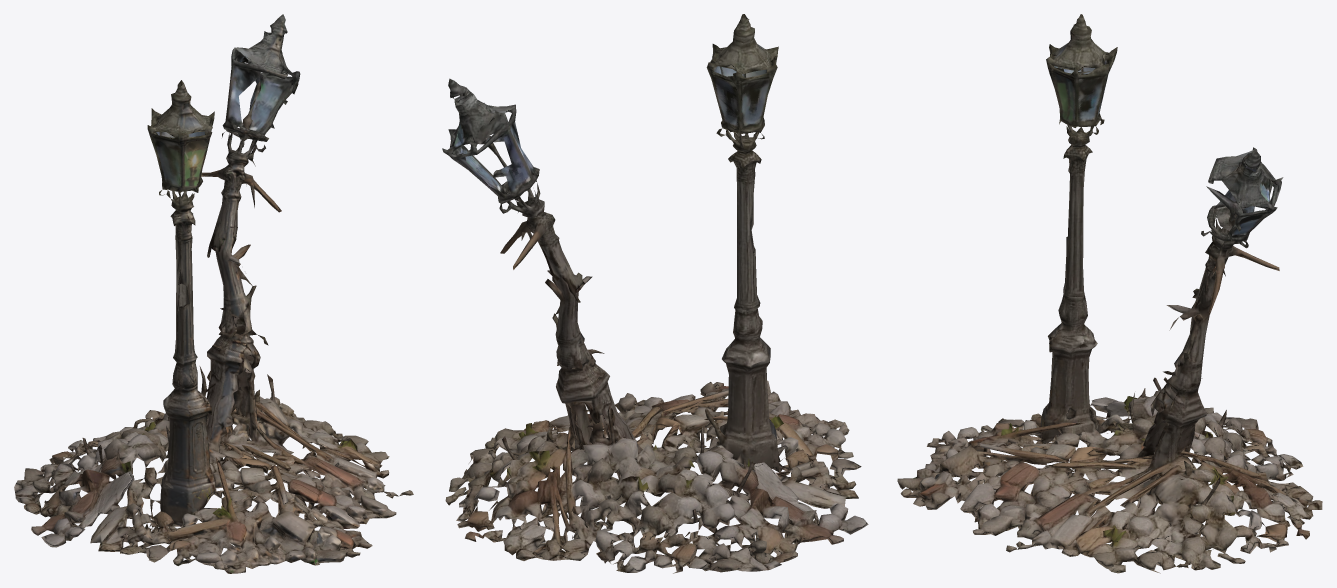
Rendered from lamp_post_1.glb.
3 views of the same model, side by side, from view 1: azimuth 30°, elevation 25°; view 2: azimuth 150°, elevation 25°; view 3: azimuth 270°, elevation 25° (orthographic). The views are drawn at different scales.
Visible parts, largest first — view 1: Mesh_0.001; view 2: Mesh_0.001; view 3: Mesh_0.001.
Boxes of the visible parts, x1=… form: Mesh_0.001: x1=14, y1=14, x2=413, y2=573; Mesh_0.001: x1=442, y1=14, x2=868, y2=573; Mesh_0.001: x1=897, y1=14, x2=1322, y2=573.
Bounding box in the file's own units: 0.6751 × 0.8321 × 0.7076.
1 material, 1 textured.
